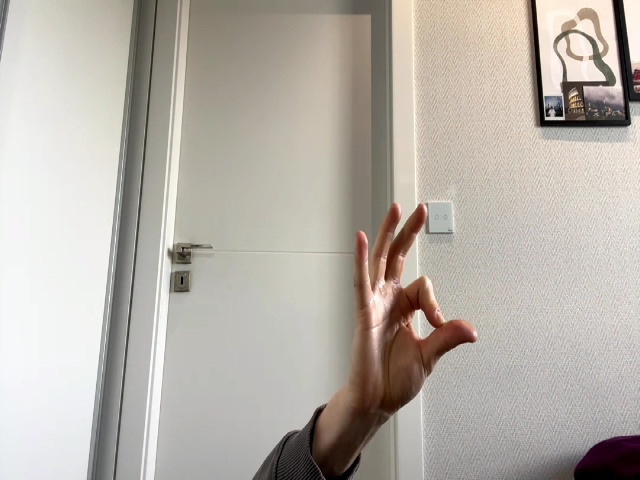S: (353, 202, 478, 413)
